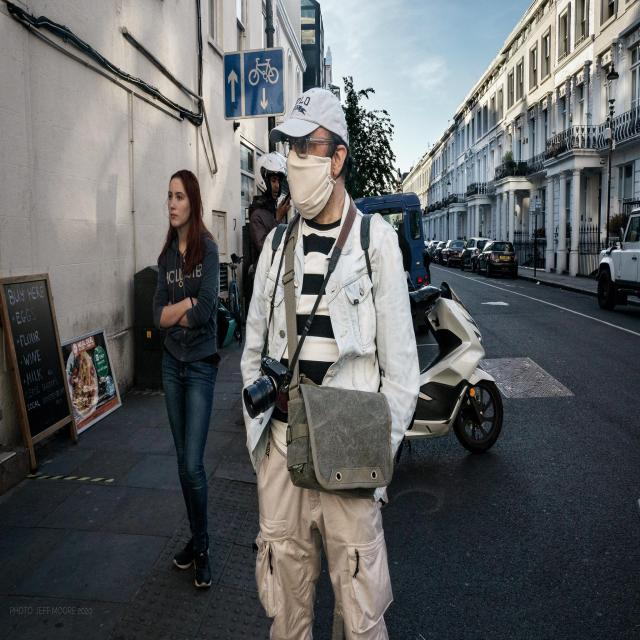Mask: (285, 151, 333, 216)
